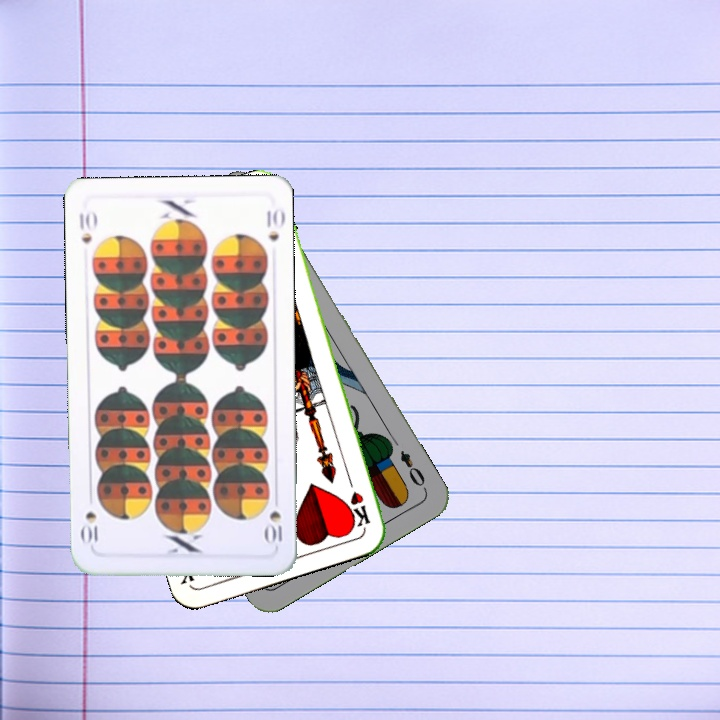EO: (396, 446, 430, 493)
HK: (343, 471, 373, 530)
S10: (75, 208, 99, 247), (262, 507, 285, 546)
